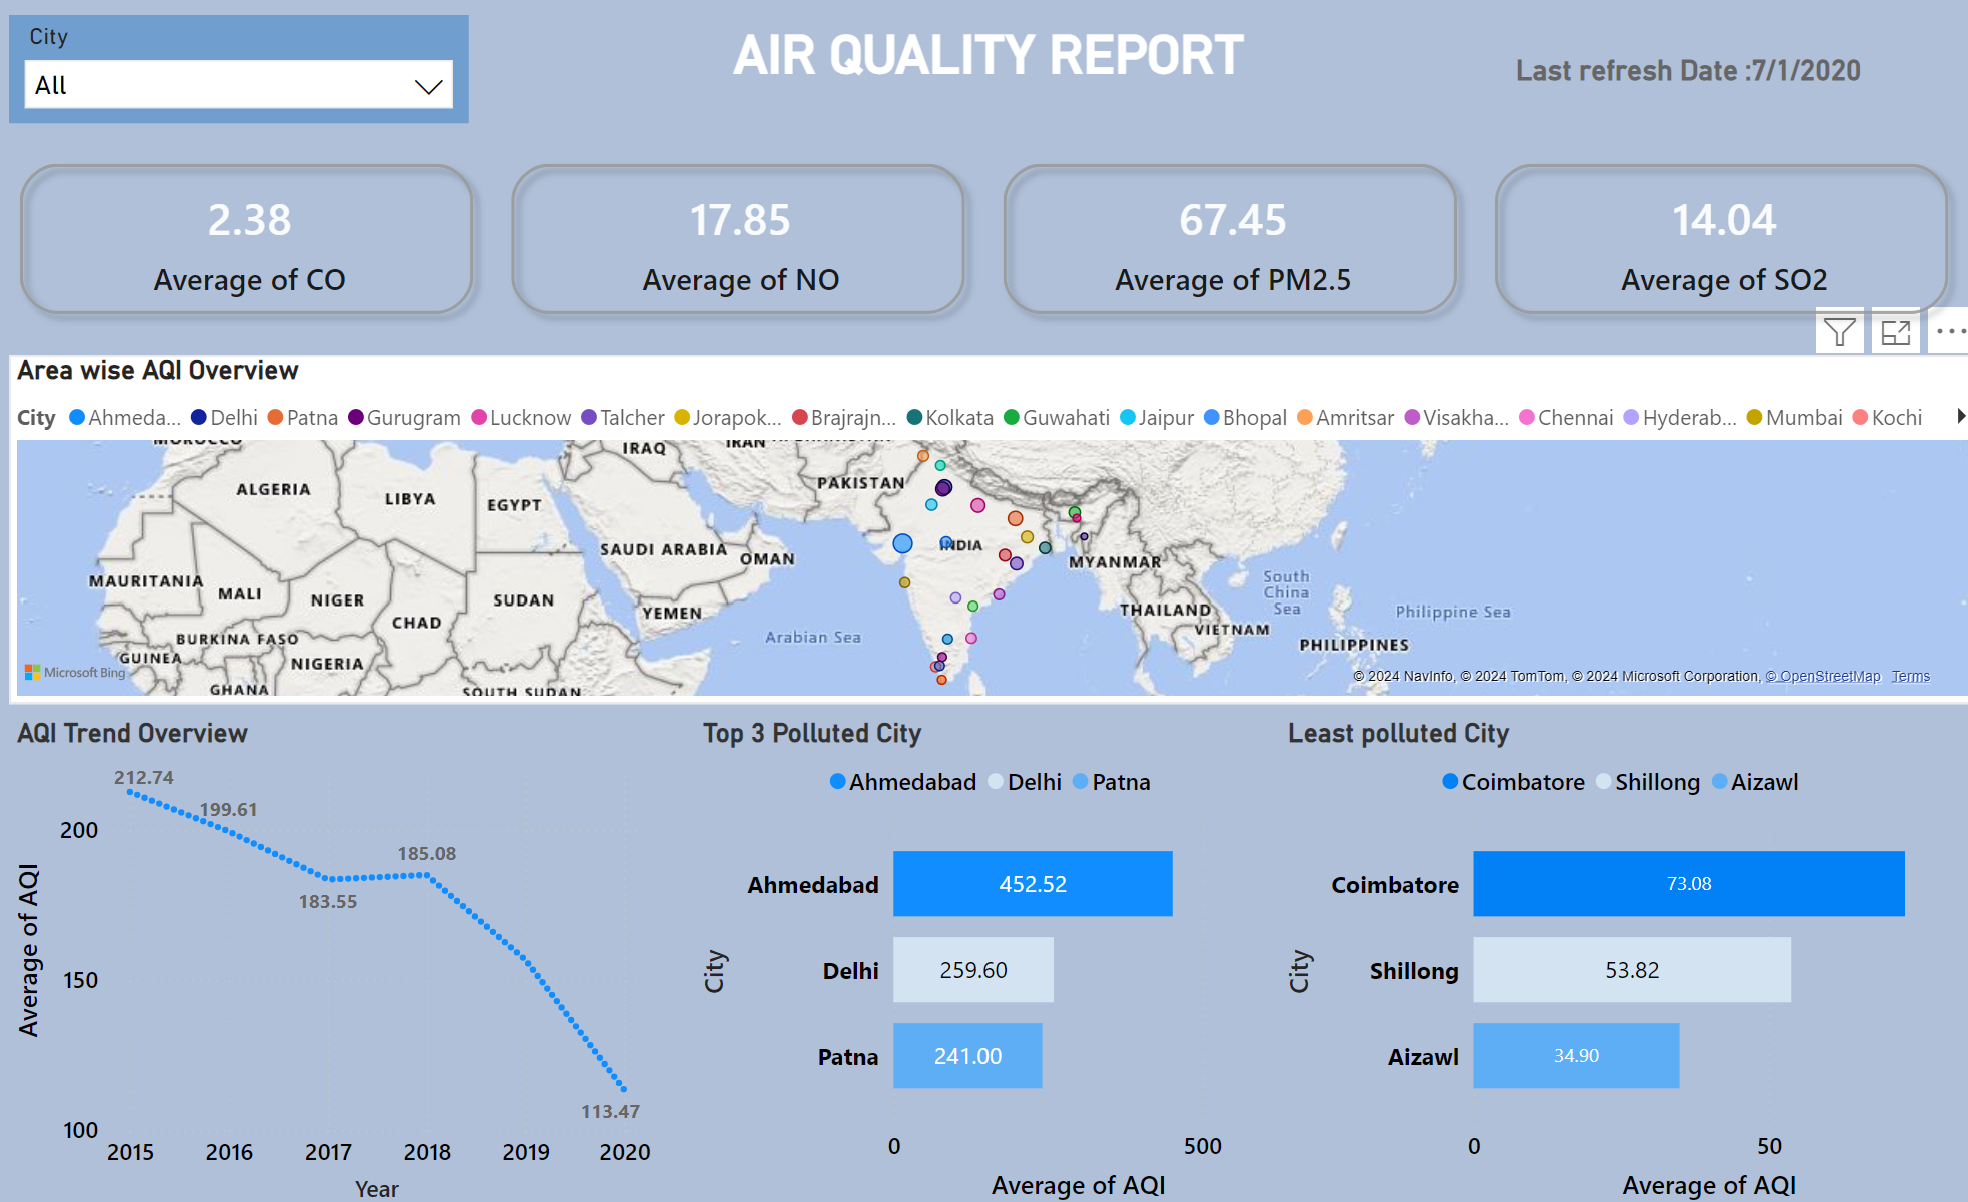

This screenshot's page, from the dashboard's own definition file:
{"tool":"powerbi","page":{"name":"Air Quality Report","canvas":[1293,778],"ordinal":0},"visuals":[{"type":"lineChart","title":"AQI Trend Overview","fields":{"Category":["city_day.Date.Variation.Date Hierarchy.Year","city_day.Date.Variation.Date Hierarchy.Quarter","city_day.Date.Variation.Date Hierarchy.Month","city_day.Date.Variation.Date Hierarchy.Day"],"Y":["Avg(city_day.AQI)"]},"box":[11.4,457,411.4,311.4],"z":0},{"type":"barChart","title":"Top 3 Polluted City","fields":{"Category":["city_day.City"],"Y":["Avg(city_day.AQI)"],"Series":["city_day.City"]},"box":[445.6,457,377.2,310.1],"z":1000},{"type":"textbox","box":[446.7,12.2,368.9,48.9],"z":2000},{"type":"barChart","title":"Least polluted City","fields":{"Category":["city_day.City"],"Y":["Avg(city_day.AQI)"],"Series":["city_day.City"]},"box":[815.2,457,435.4,310.1],"z":3000},{"type":"slicer","fields":{"Values":["city_day.City"]},"box":[11.4,12.7,291.1,68.4],"z":4000},{"type":"map","title":"Area wise AQI Overview","fields":{"Category":["city_day.City"],"Size":["Avg(city_day.AQI)"],"Series":["city_day.City"]},"box":[11.4,227.8,1245.6,220.3],"z":5000},{"type":"cardVisual","fields":{"Data":["Avg(city_day.CO)","Avg(city_day.NO)","Avg(city_day.PM2.5)","Avg(city_day.SO2)"]},"box":[1.3,89.9,1255.7,129.1],"z":6000},{"type":"cardVisual","fields":{"Data":["city_day.Latest refresh date"]},"box":[911.4,0,325.3,81],"z":6001}]}

Visuals, with their boxes in screenshot pixels (x1, y1, x2, y2), scaled from the page's 1293x778 canvas onto the 1968x1202 screenshot:
"AQI Trend Overview" lineChart: <box>17,706,644,1187</box>
"Top 3 Polluted City" barChart: <box>678,706,1252,1185</box>
textbox: <box>680,19,1241,94</box>
"Least polluted City" barChart: <box>1241,706,1903,1185</box>
slicer - city_day.City: <box>17,20,460,125</box>
"Area wise AQI Overview" map: <box>17,352,1913,692</box>
cardVisual - Avg(city_day.CO) x Avg(city_day.NO): <box>2,139,1913,338</box>
cardVisual - city_day.Latest refresh date: <box>1387,0,1882,125</box>
